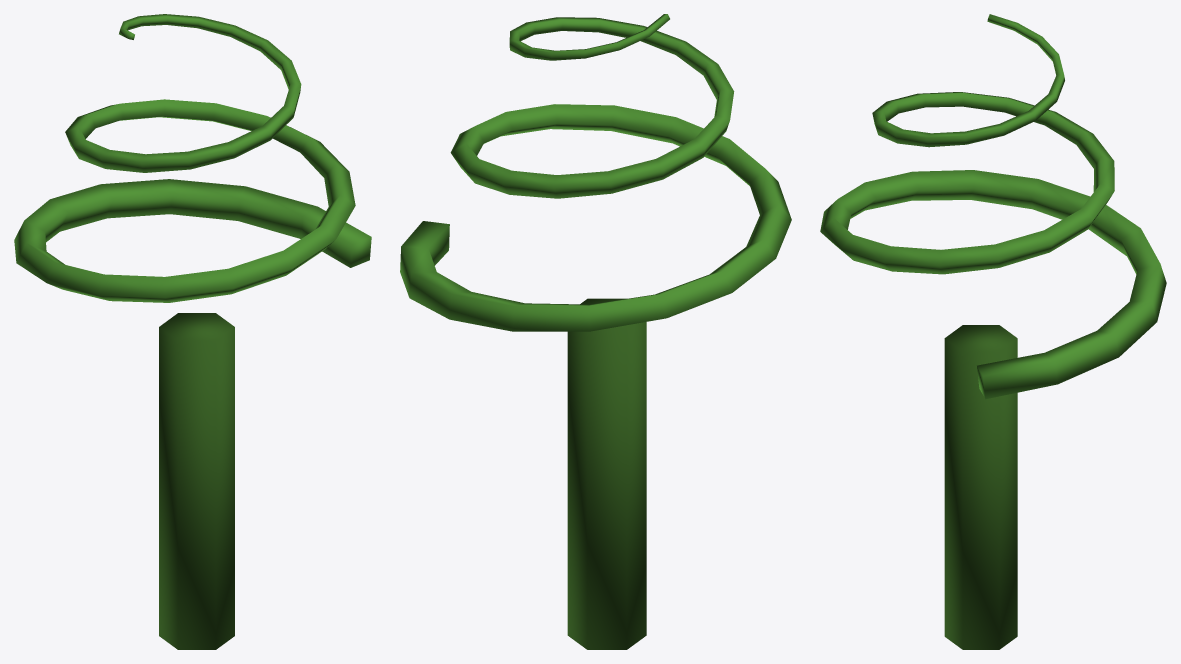
File: ivy_whip.glb
3 renders of one model, left to right at view 1: azimuth 30°, elevation 25°; view 2: azimuth 150°, elevation 25°; view 3: azimuth 270°, elevation 25°, orthographic. The views are drawn at different scales.
Parts seen in each view (by area): view 1: ivy_whip_v0; view 2: ivy_whip_v0; view 3: ivy_whip_v0.
Boxes of the visible parts, <box> form: ivy_whip_v0: <box>14,14,371,649</box>; ivy_whip_v0: <box>400,14,791,649</box>; ivy_whip_v0: <box>820,14,1166,649</box>.
Size of the model in its own units: 0.2022 by 0.3579 by 0.1896.
